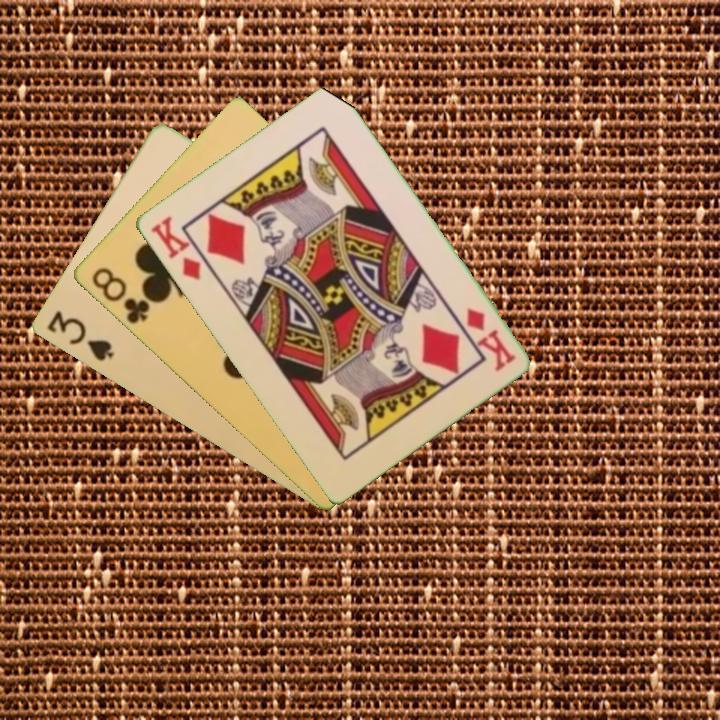3s: (42, 307, 116, 365)
8c: (87, 264, 152, 327)
Kd: (146, 212, 204, 284), (462, 303, 518, 374)
